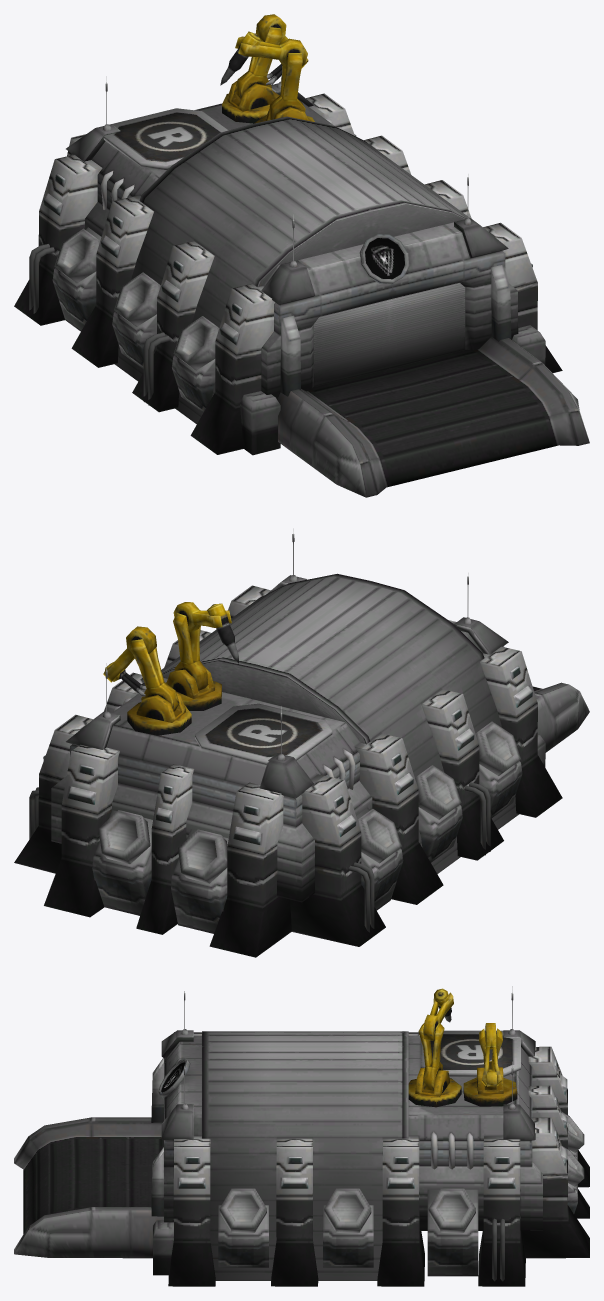
The model's file is UPLManufacturingFacility.glb.
The picture shows the model from 3 angles, top to bottom: view 1: azimuth 30°, elevation 25°; view 2: azimuth 150°, elevation 25°; view 3: azimuth 270°, elevation 25°; orthographic projection. The views are drawn at different scales.
Parts seen in each view (by area): view 1: Mesh; view 2: Mesh; view 3: Mesh.
Boxes of the visible parts, x1,y1,x2,y2 form: Mesh: (14, 14, 589, 497); Mesh: (14, 528, 589, 957); Mesh: (14, 986, 589, 1286).
Bounding box in the file's own units: 2.81 × 2.06 × 4.62.
1 material, 1 textured.
